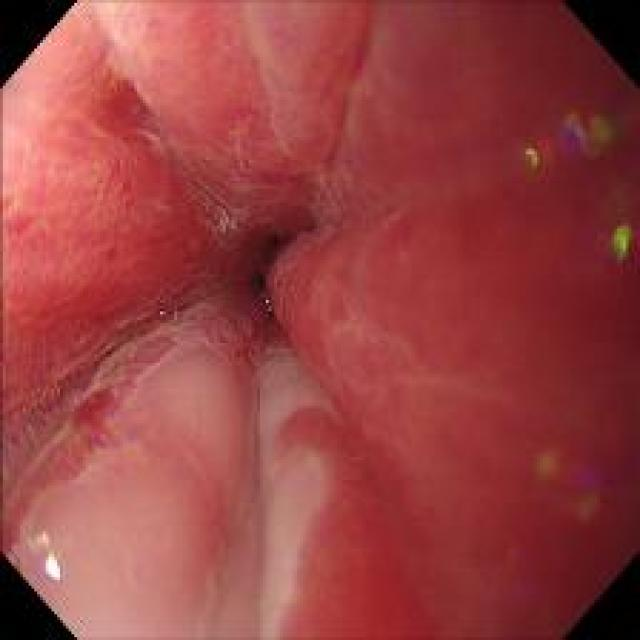bubbles: (150, 298, 188, 336), (256, 291, 289, 329)
color misalignment: (514, 86, 619, 189), (531, 436, 610, 521), (20, 531, 84, 589), (599, 210, 636, 265), (154, 306, 165, 321)
specularity: (45, 552, 62, 580)
